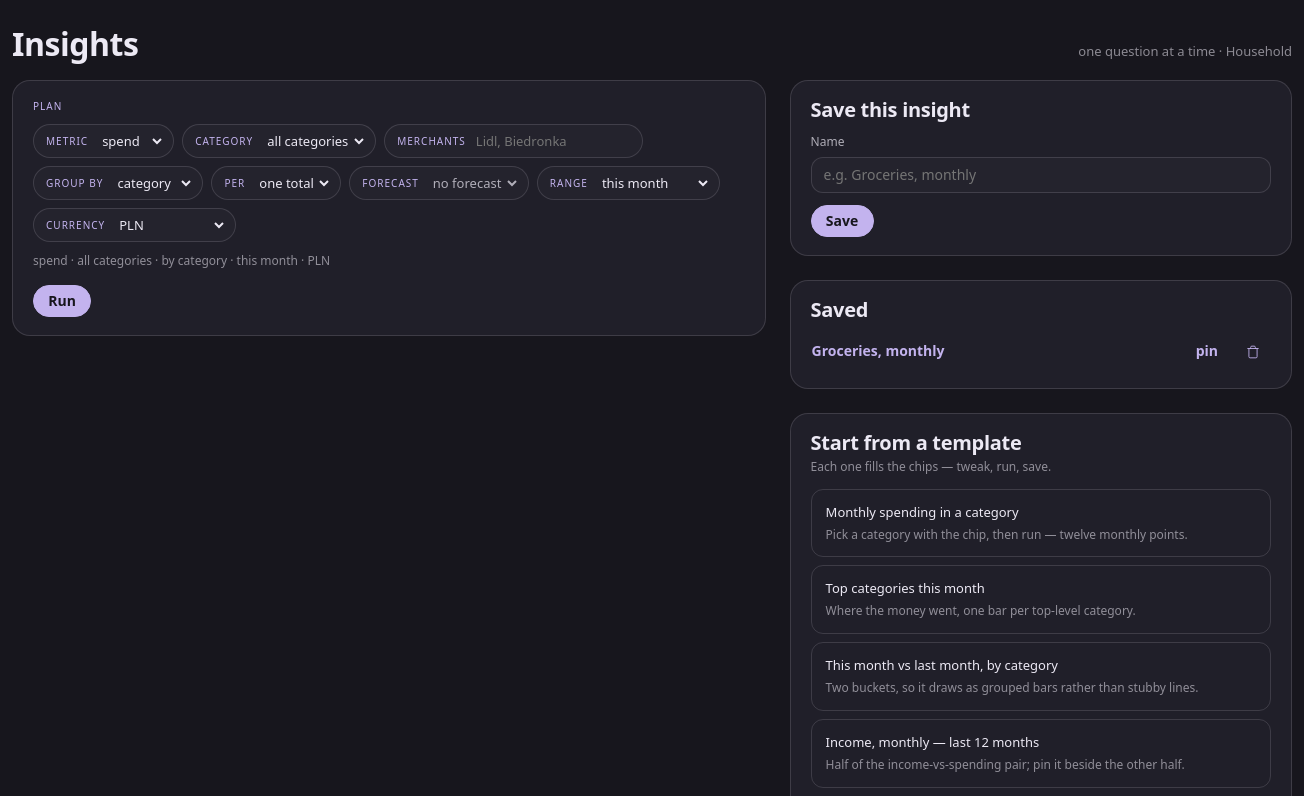
it: J15: a zero-match run renders the empty-answer message, not a blank chart
Click the button "Run": (62,301) 33,285 -> 91,318
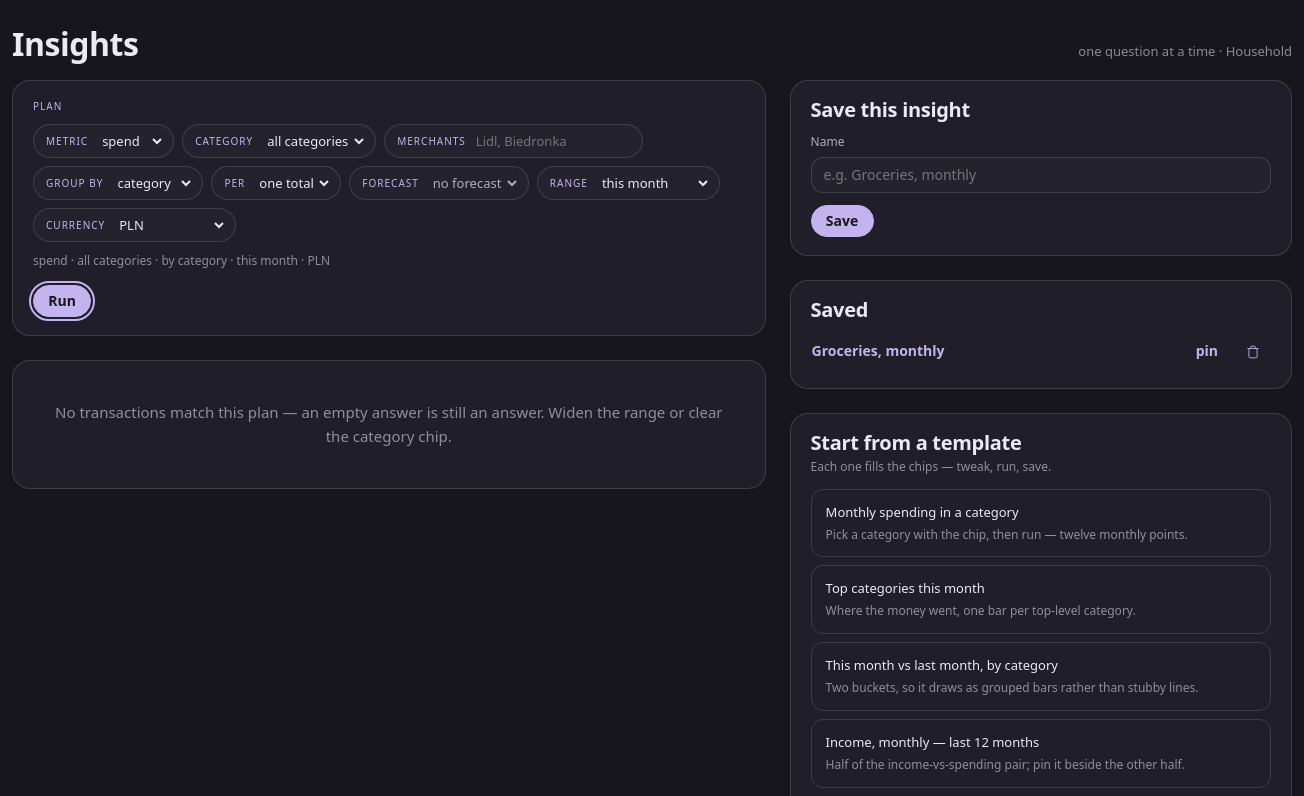
Check: the text "No transactions match this plan" is shown, box 55,402 -> 722,446
